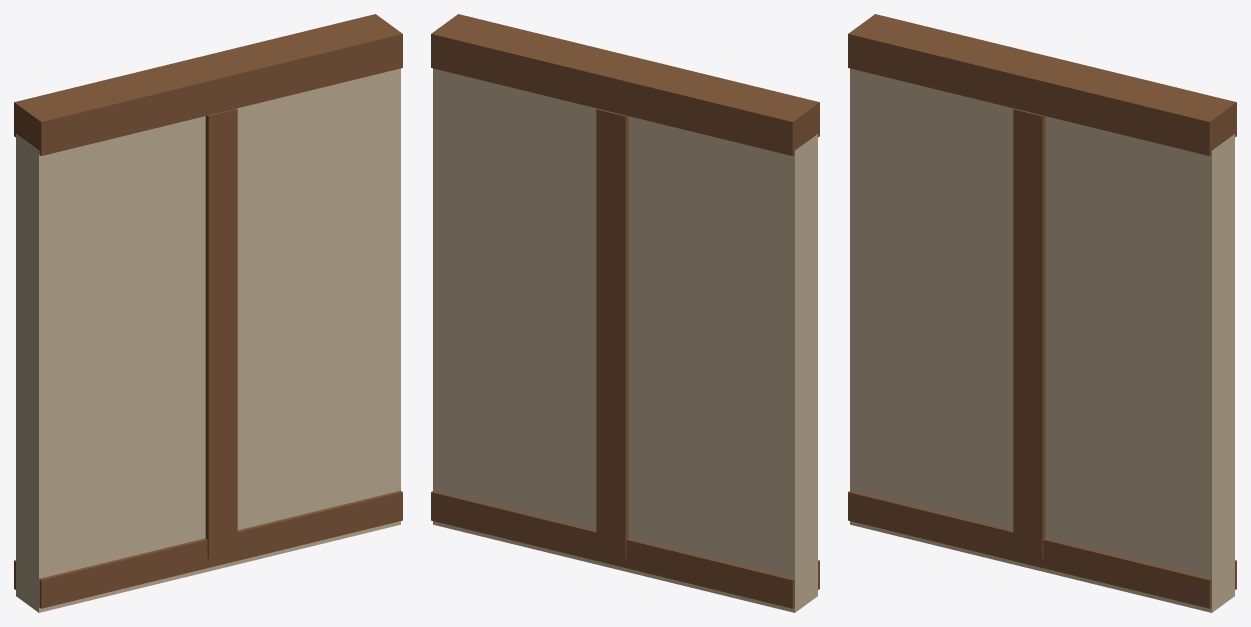
3 renders of one model, left to right at view 1: azimuth 30°, elevation 25°; view 2: azimuth 150°, elevation 25°; view 3: azimuth 330°, elevation 25°, orthographic.
Visible parts, largest first — view 1: village-solid-wall-2m-01; view 2: village-solid-wall-2m-01; view 3: village-solid-wall-2m-01.
Boxes of the visible parts, <box> form: village-solid-wall-2m-01: <box>14,14,402,612</box>; village-solid-wall-2m-01: <box>431,14,819,612</box>; village-solid-wall-2m-01: <box>848,14,1236,612</box>.
Bounding box in the file's own units: 2 × 2.6 × 0.28.
